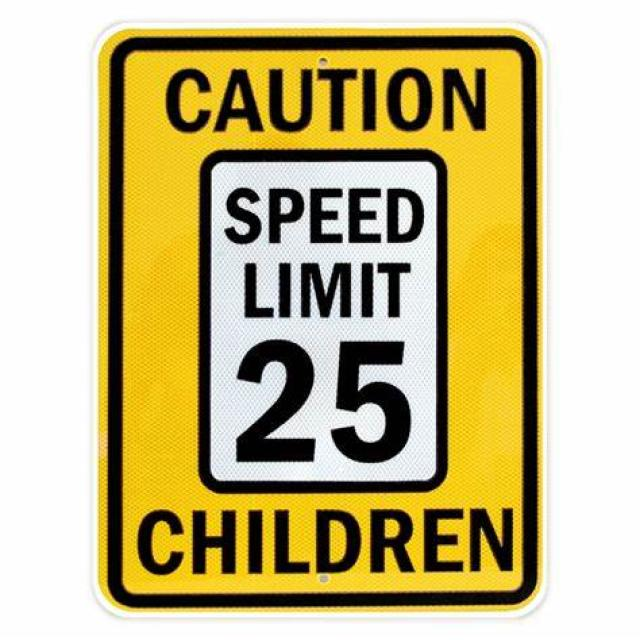speedLimit25: (202, 158, 443, 487)
